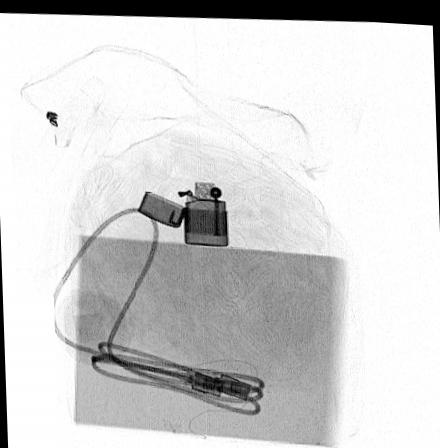Lighter: (136, 179, 228, 242)
